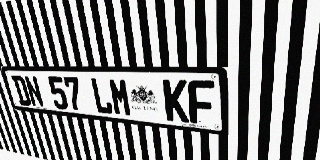5: (47, 76, 69, 110)
7: (62, 77, 85, 112)
D: (11, 75, 32, 106)
F: (188, 80, 215, 125)
K: (162, 79, 189, 123)
L: (90, 77, 114, 115)
M: (108, 78, 133, 117)
N: (23, 76, 45, 108)
